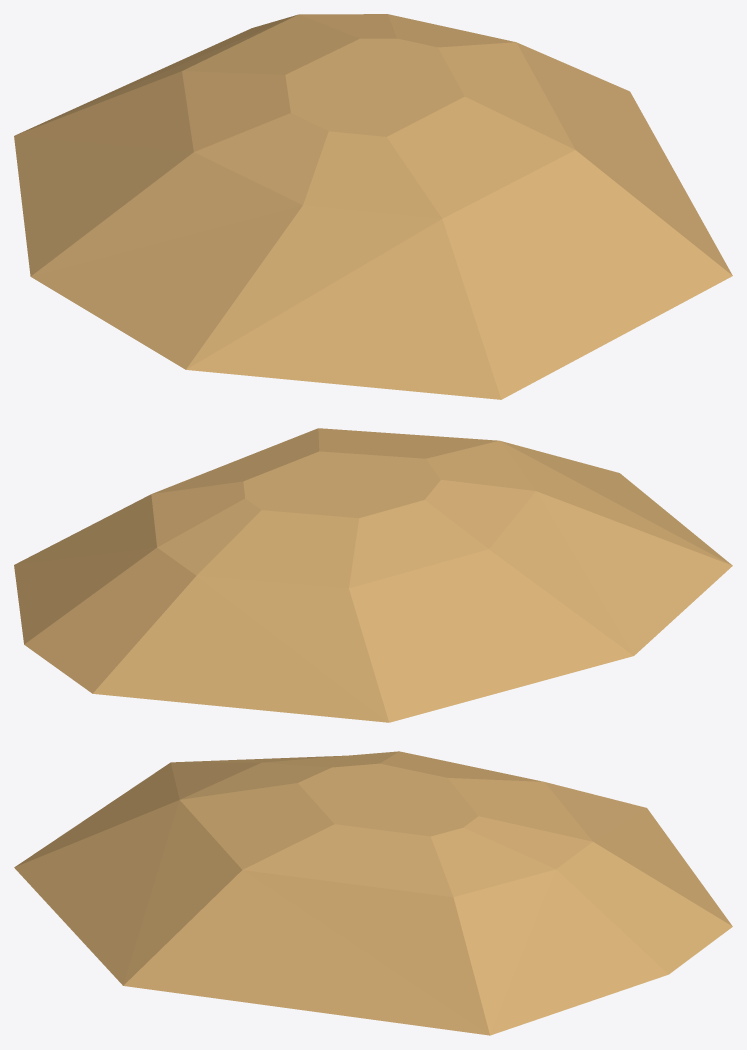
File: SL_Dune1.fbx
The picture shows the model from 3 angles, top to bottom: view 1: azimuth 30°, elevation 25°; view 2: azimuth 150°, elevation 25°; view 3: azimuth 270°, elevation 25°; orthographic projection. The views are drawn at different scales.
Visible parts, largest first — view 1: Cube.012; view 2: Cube.012; view 3: Cube.012.
Part boxes in pixels (left/top/right/bottom): Cube.012: left=14, top=14, right=732, bottom=399; Cube.012: left=14, top=428, right=732, bottom=722; Cube.012: left=14, top=751, right=732, bottom=1035.
Bounding box in the file's own units: 2036 × 376 × 2297.
